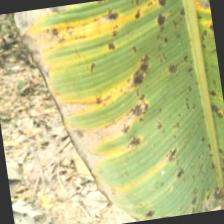pestalotiopsis: (12, 0, 224, 224)
